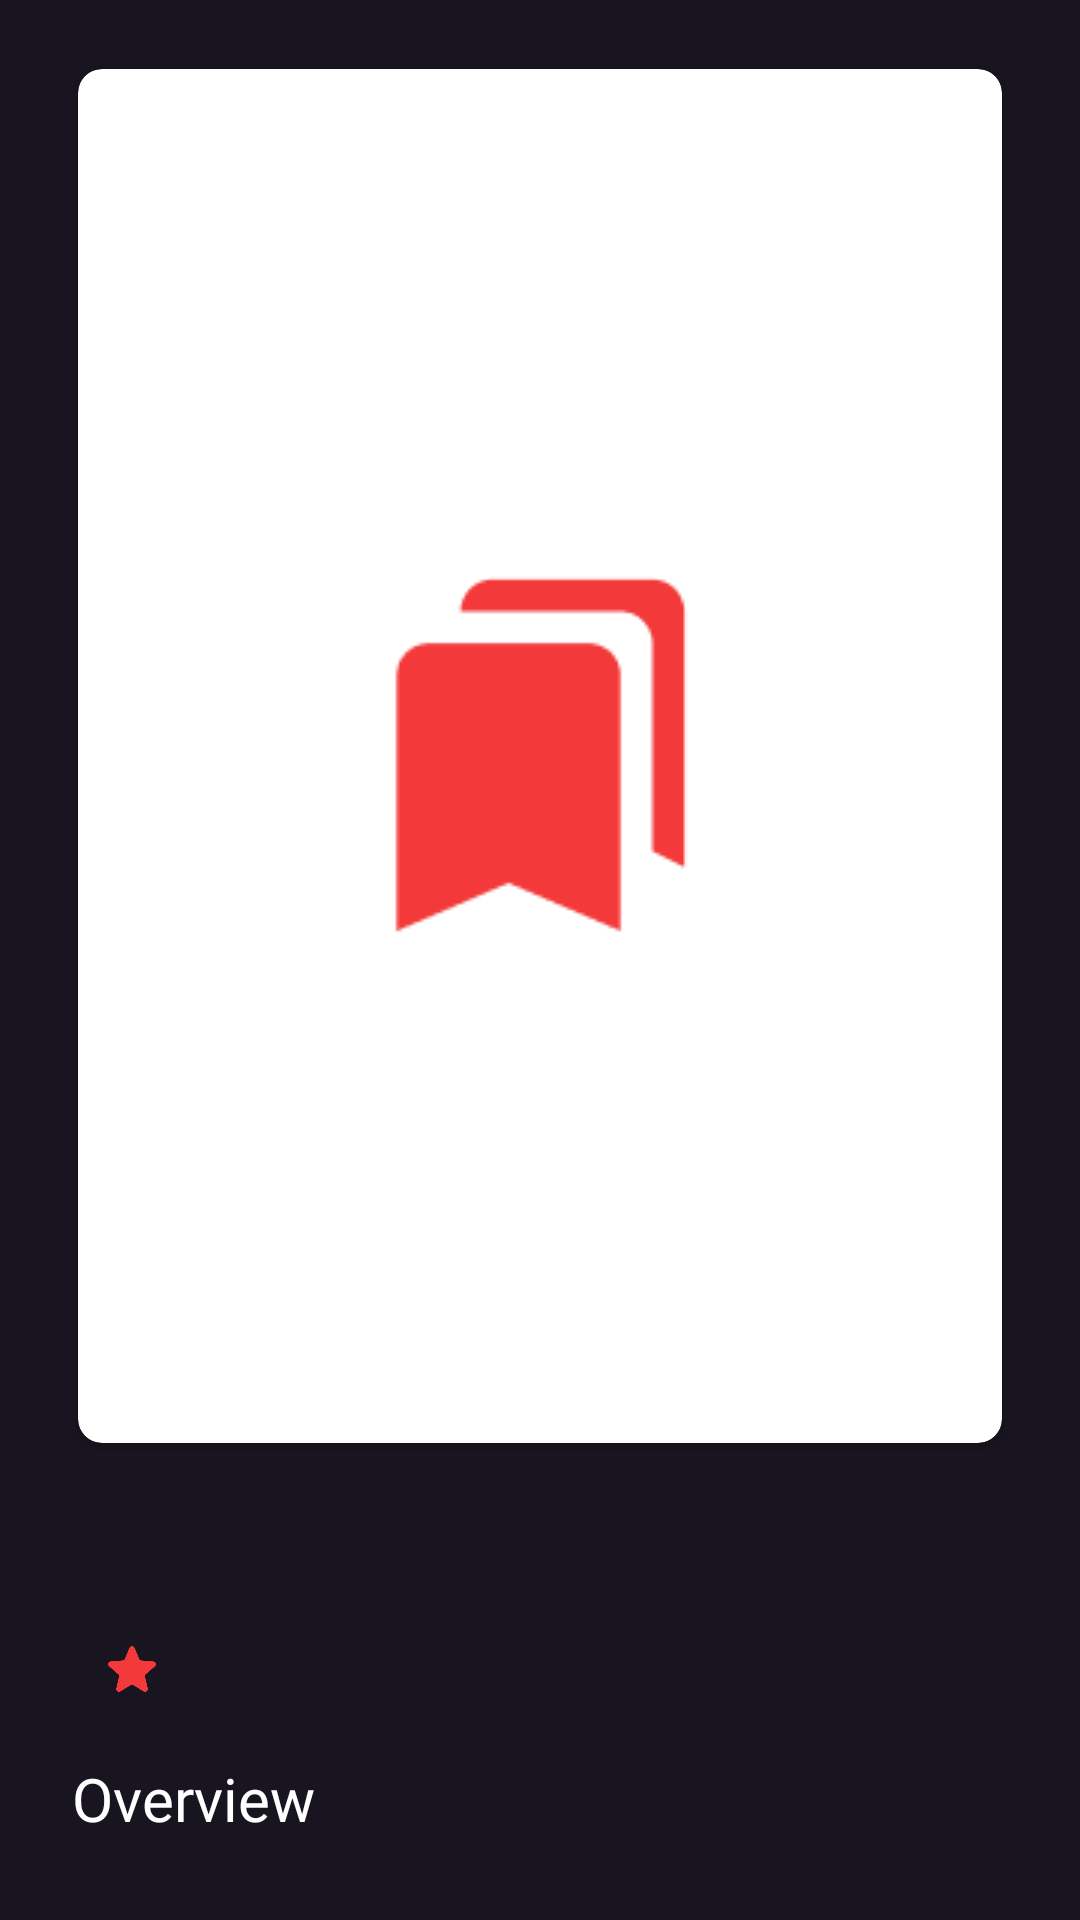

Screen size 1080×1920. Icon name, then its box in pixels as (left=x1, top=y1, right=x2, bottom=y2):
star: (left=108, top=1646, right=156, bottom=1692)
